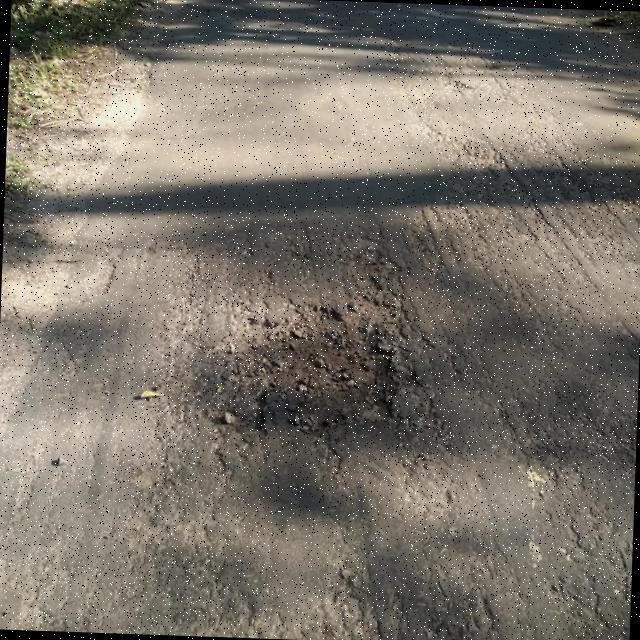Pothole: (212, 296, 398, 432)
